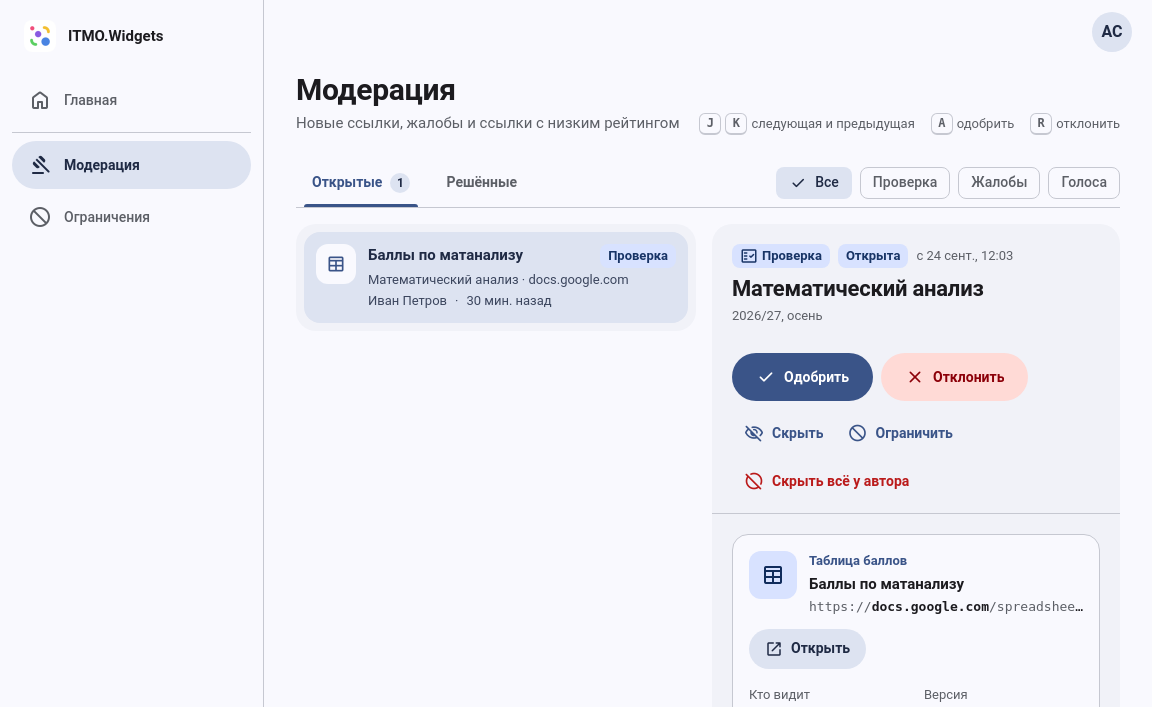
it: ModerationPage › restricts the author for the chosen capability and term
Click the button "Ограничить" at (900, 433), box [836,409,965,457]
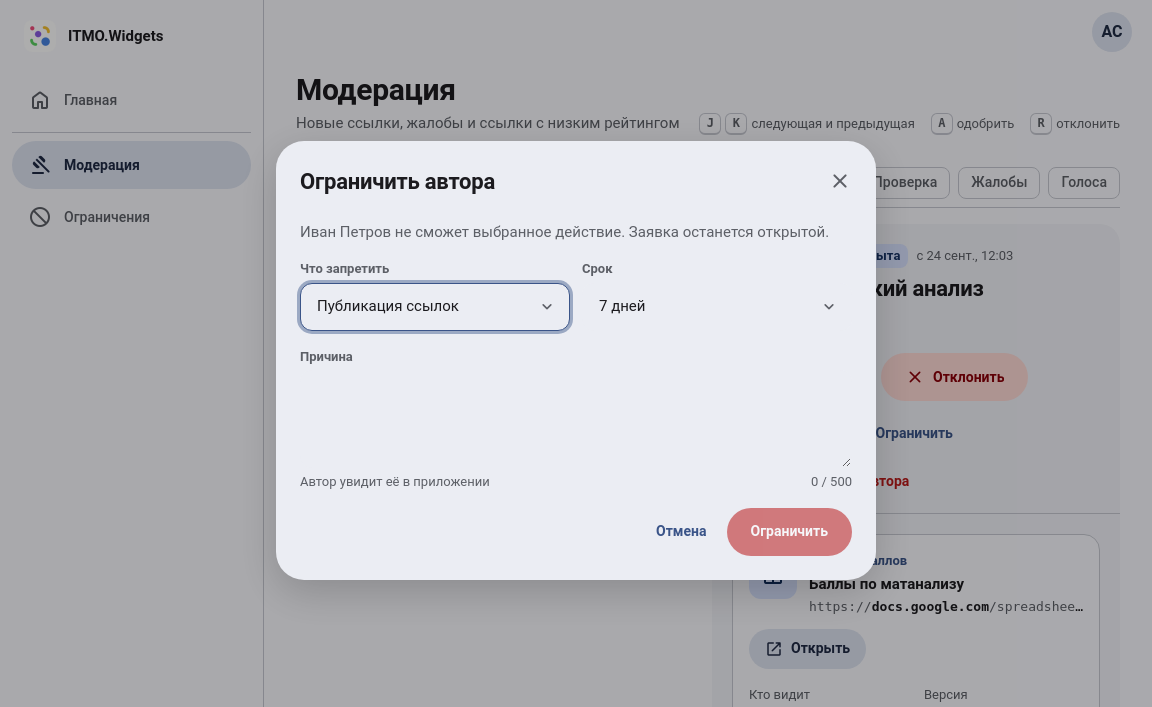
Select "Голосование" in the dropdown labelled "Что запретить" at (435, 306), box [301,284,569,330]
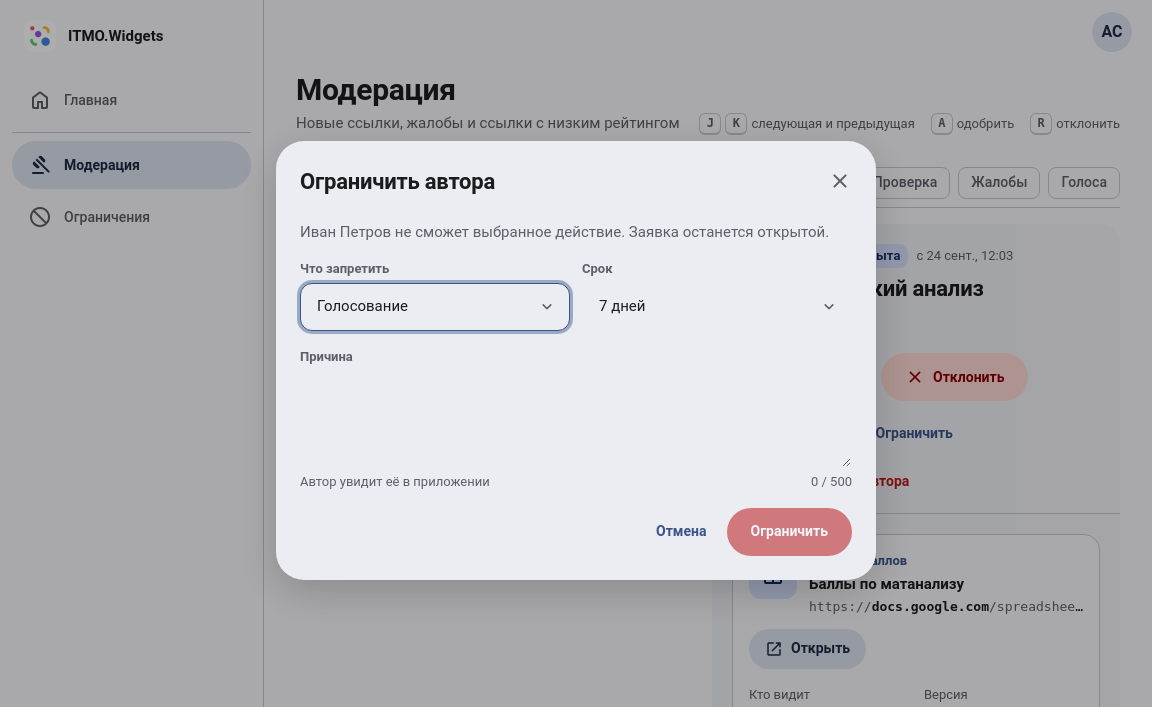
Select "Бессрочно" in the dropdown labelled "Срок" at (717, 306), box [583,284,851,330]
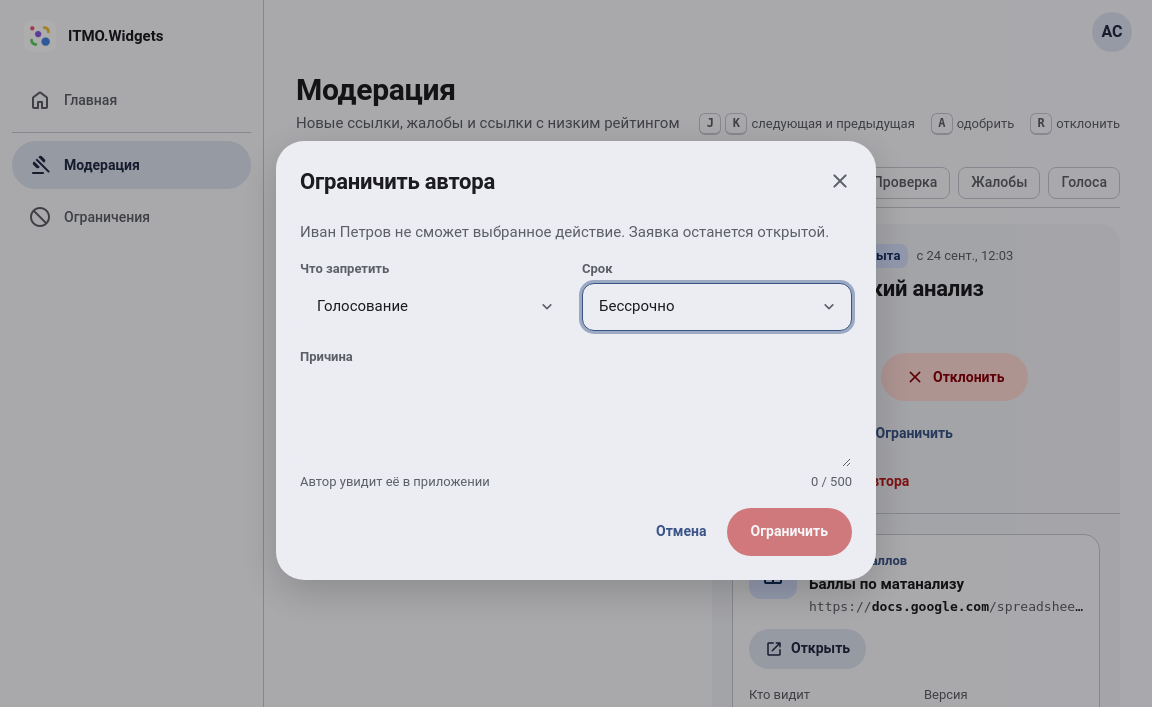
Type "Накрутка" into the text box labelled "Причина" at (576, 419), box [301,371,851,467]
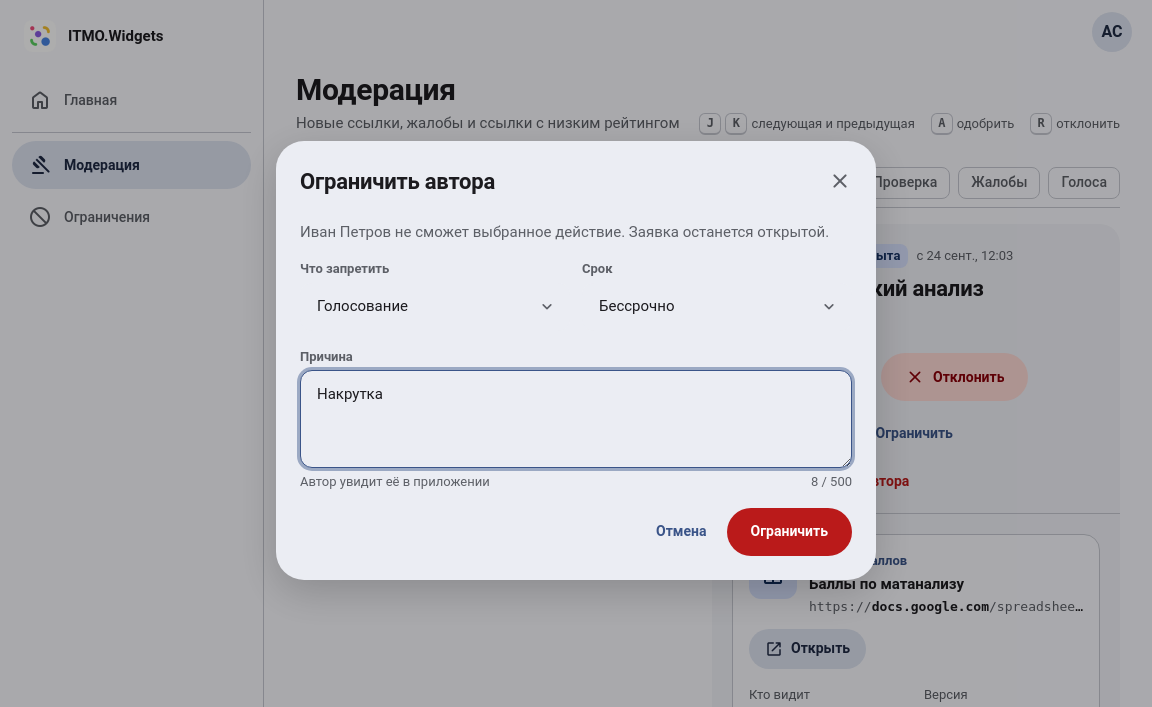
Click the button "Ограничить" at (789, 532), box [726,508,852,556]
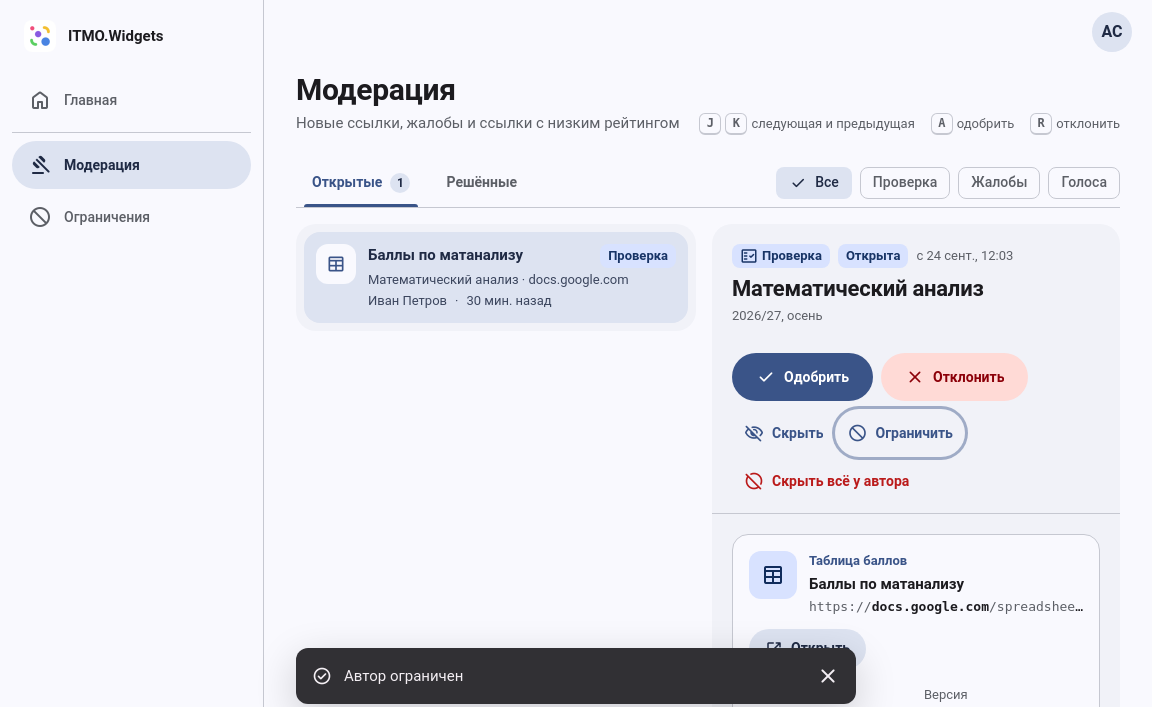
expect the text "Автор ограничен" is shown: met, box [344,667,463,685]
